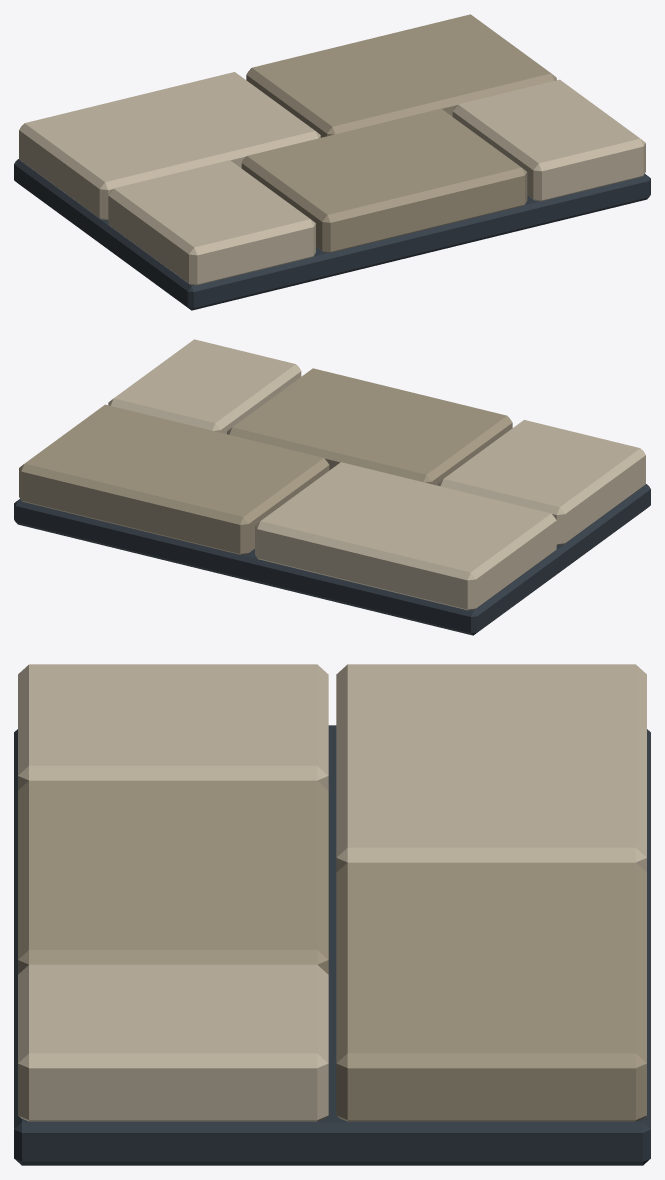
File: Terminal_StepTile.fbx
3 views of the same model, one above another, from view 1: azimuth 30°, elevation 25°; view 2: azimuth 150°, elevation 25°; view 3: azimuth 270°, elevation 25° (orthographic). The views are drawn at different scales.
Visible parts, largest first — view 1: Concrete, ConcreteDark, FrameDark; view 2: Concrete, ConcreteDark, FrameDark; view 3: Concrete, ConcreteDark, FrameDark.
Boxes of the visible parts, left/top/right/bottom form: Concrete: left=19, top=72, right=645, bottom=285; ConcreteDark: left=241, top=14, right=556, bottom=252; FrameDark: left=14, top=159, right=650, bottom=310; Concrete: left=108, top=339, right=645, bottom=610; ConcreteDark: left=19, top=368, right=512, bottom=554; FrameDark: left=14, top=484, right=650, bottom=635; Concrete: left=18, top=664, right=646, bottom=1121; ConcreteDark: left=18, top=780, right=646, bottom=1121; FrameDark: left=14, top=725, right=650, bottom=1165.
Bounding box in the file's own units: 6 × 0.75 × 4.
